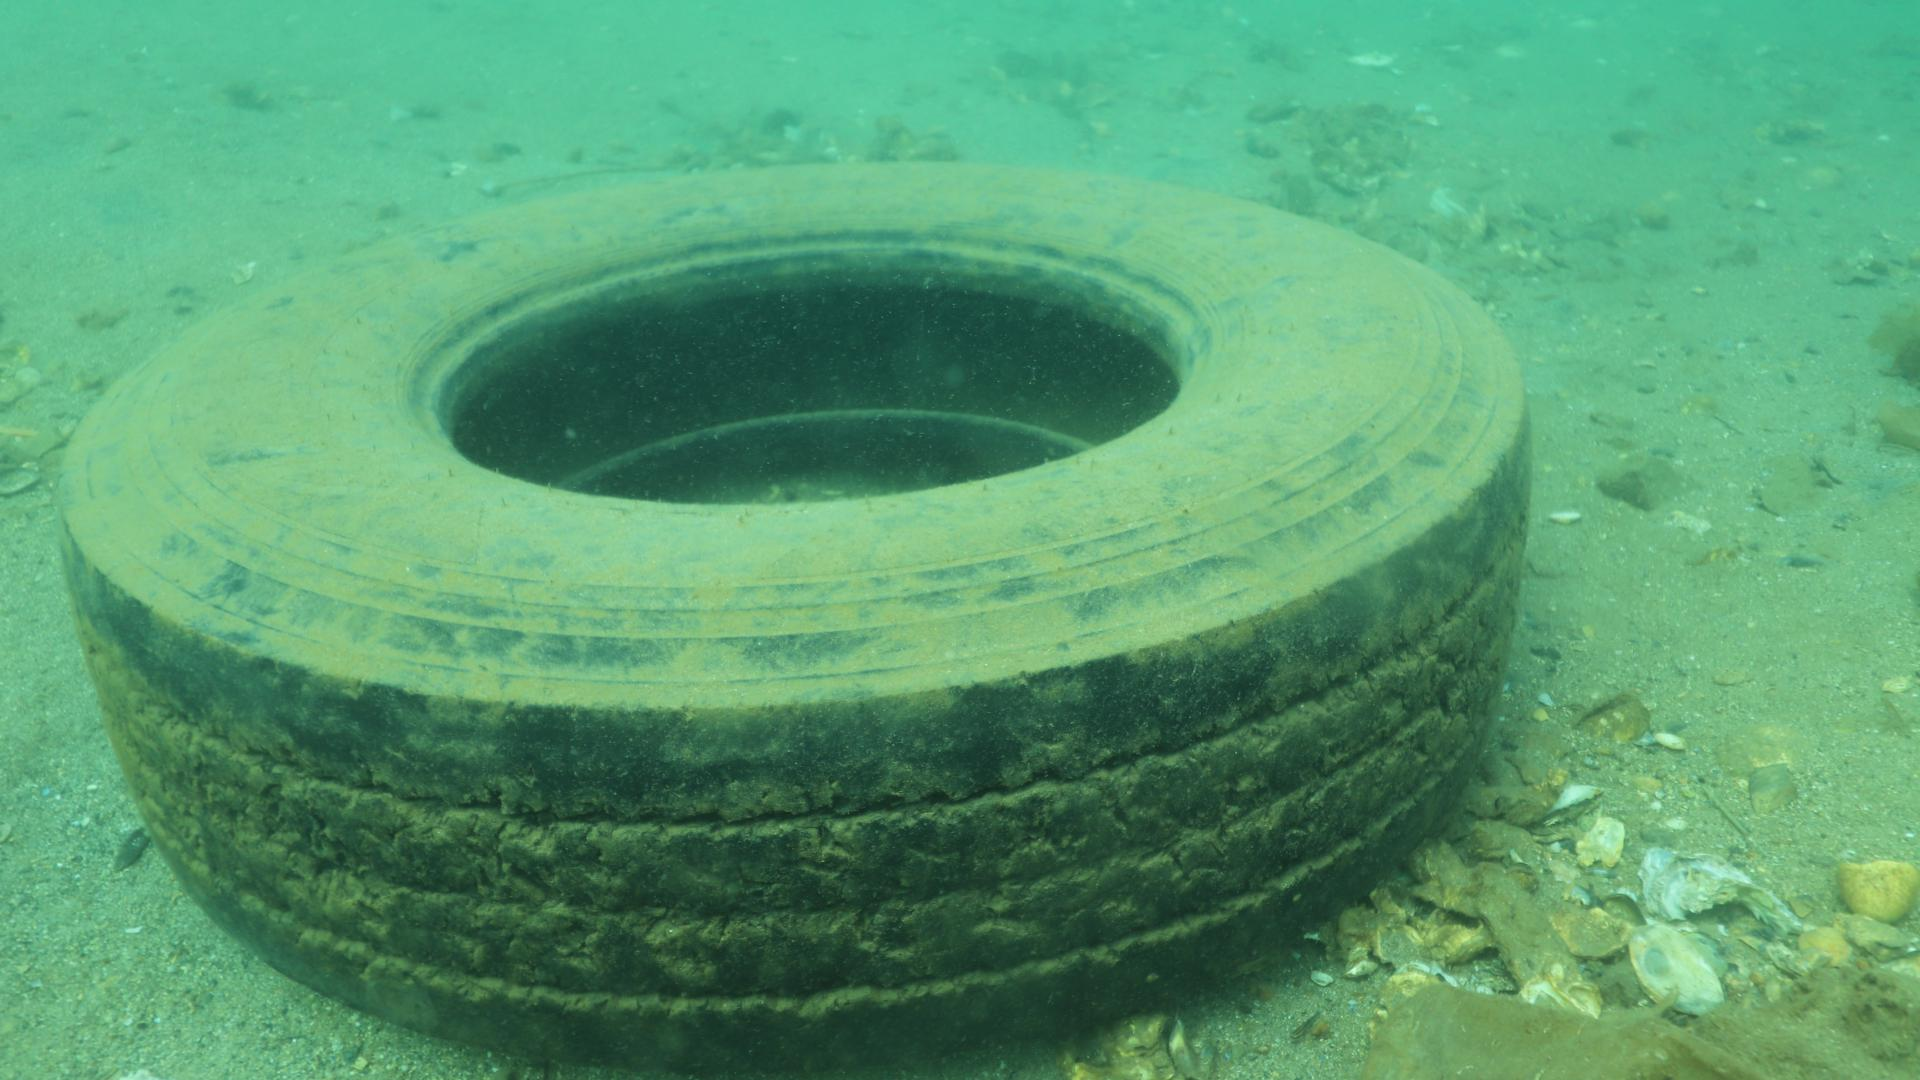tire: (53, 158, 1531, 1077)
